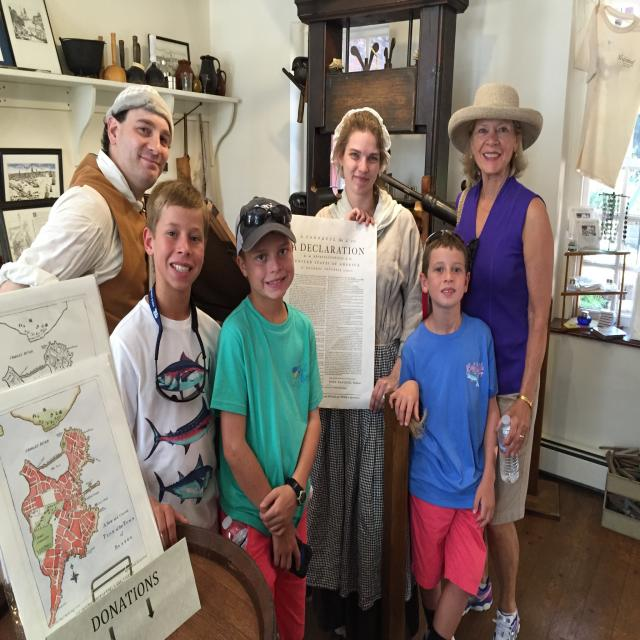body: (303, 105, 422, 631), (447, 80, 557, 640), (207, 193, 324, 639), (388, 226, 503, 640), (104, 178, 224, 552), (0, 82, 175, 337)
